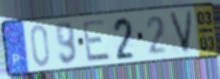0: (29, 24, 51, 69)
2: (110, 14, 138, 63), (145, 14, 169, 56)
9: (54, 20, 79, 67)
E: (81, 18, 113, 64)
V: (167, 8, 195, 56)
